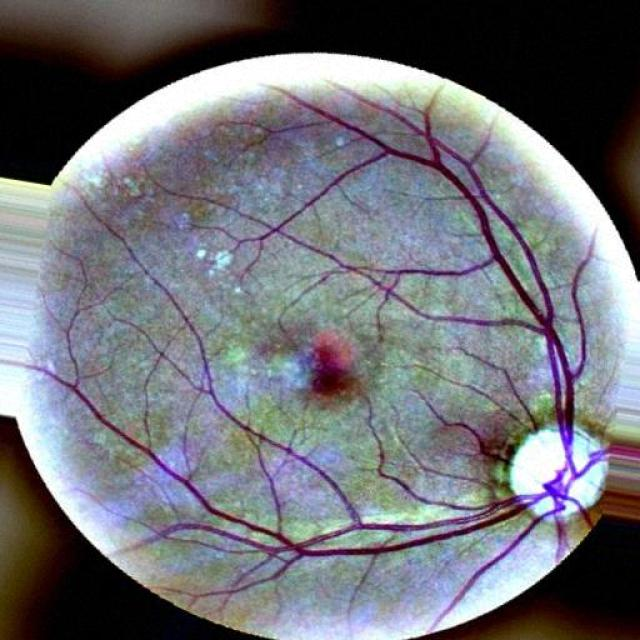Macula: (289, 337, 370, 404)
Nerves: (60, 205, 563, 604), (340, 128, 582, 437)
Optic Disk: (504, 426, 614, 528)
